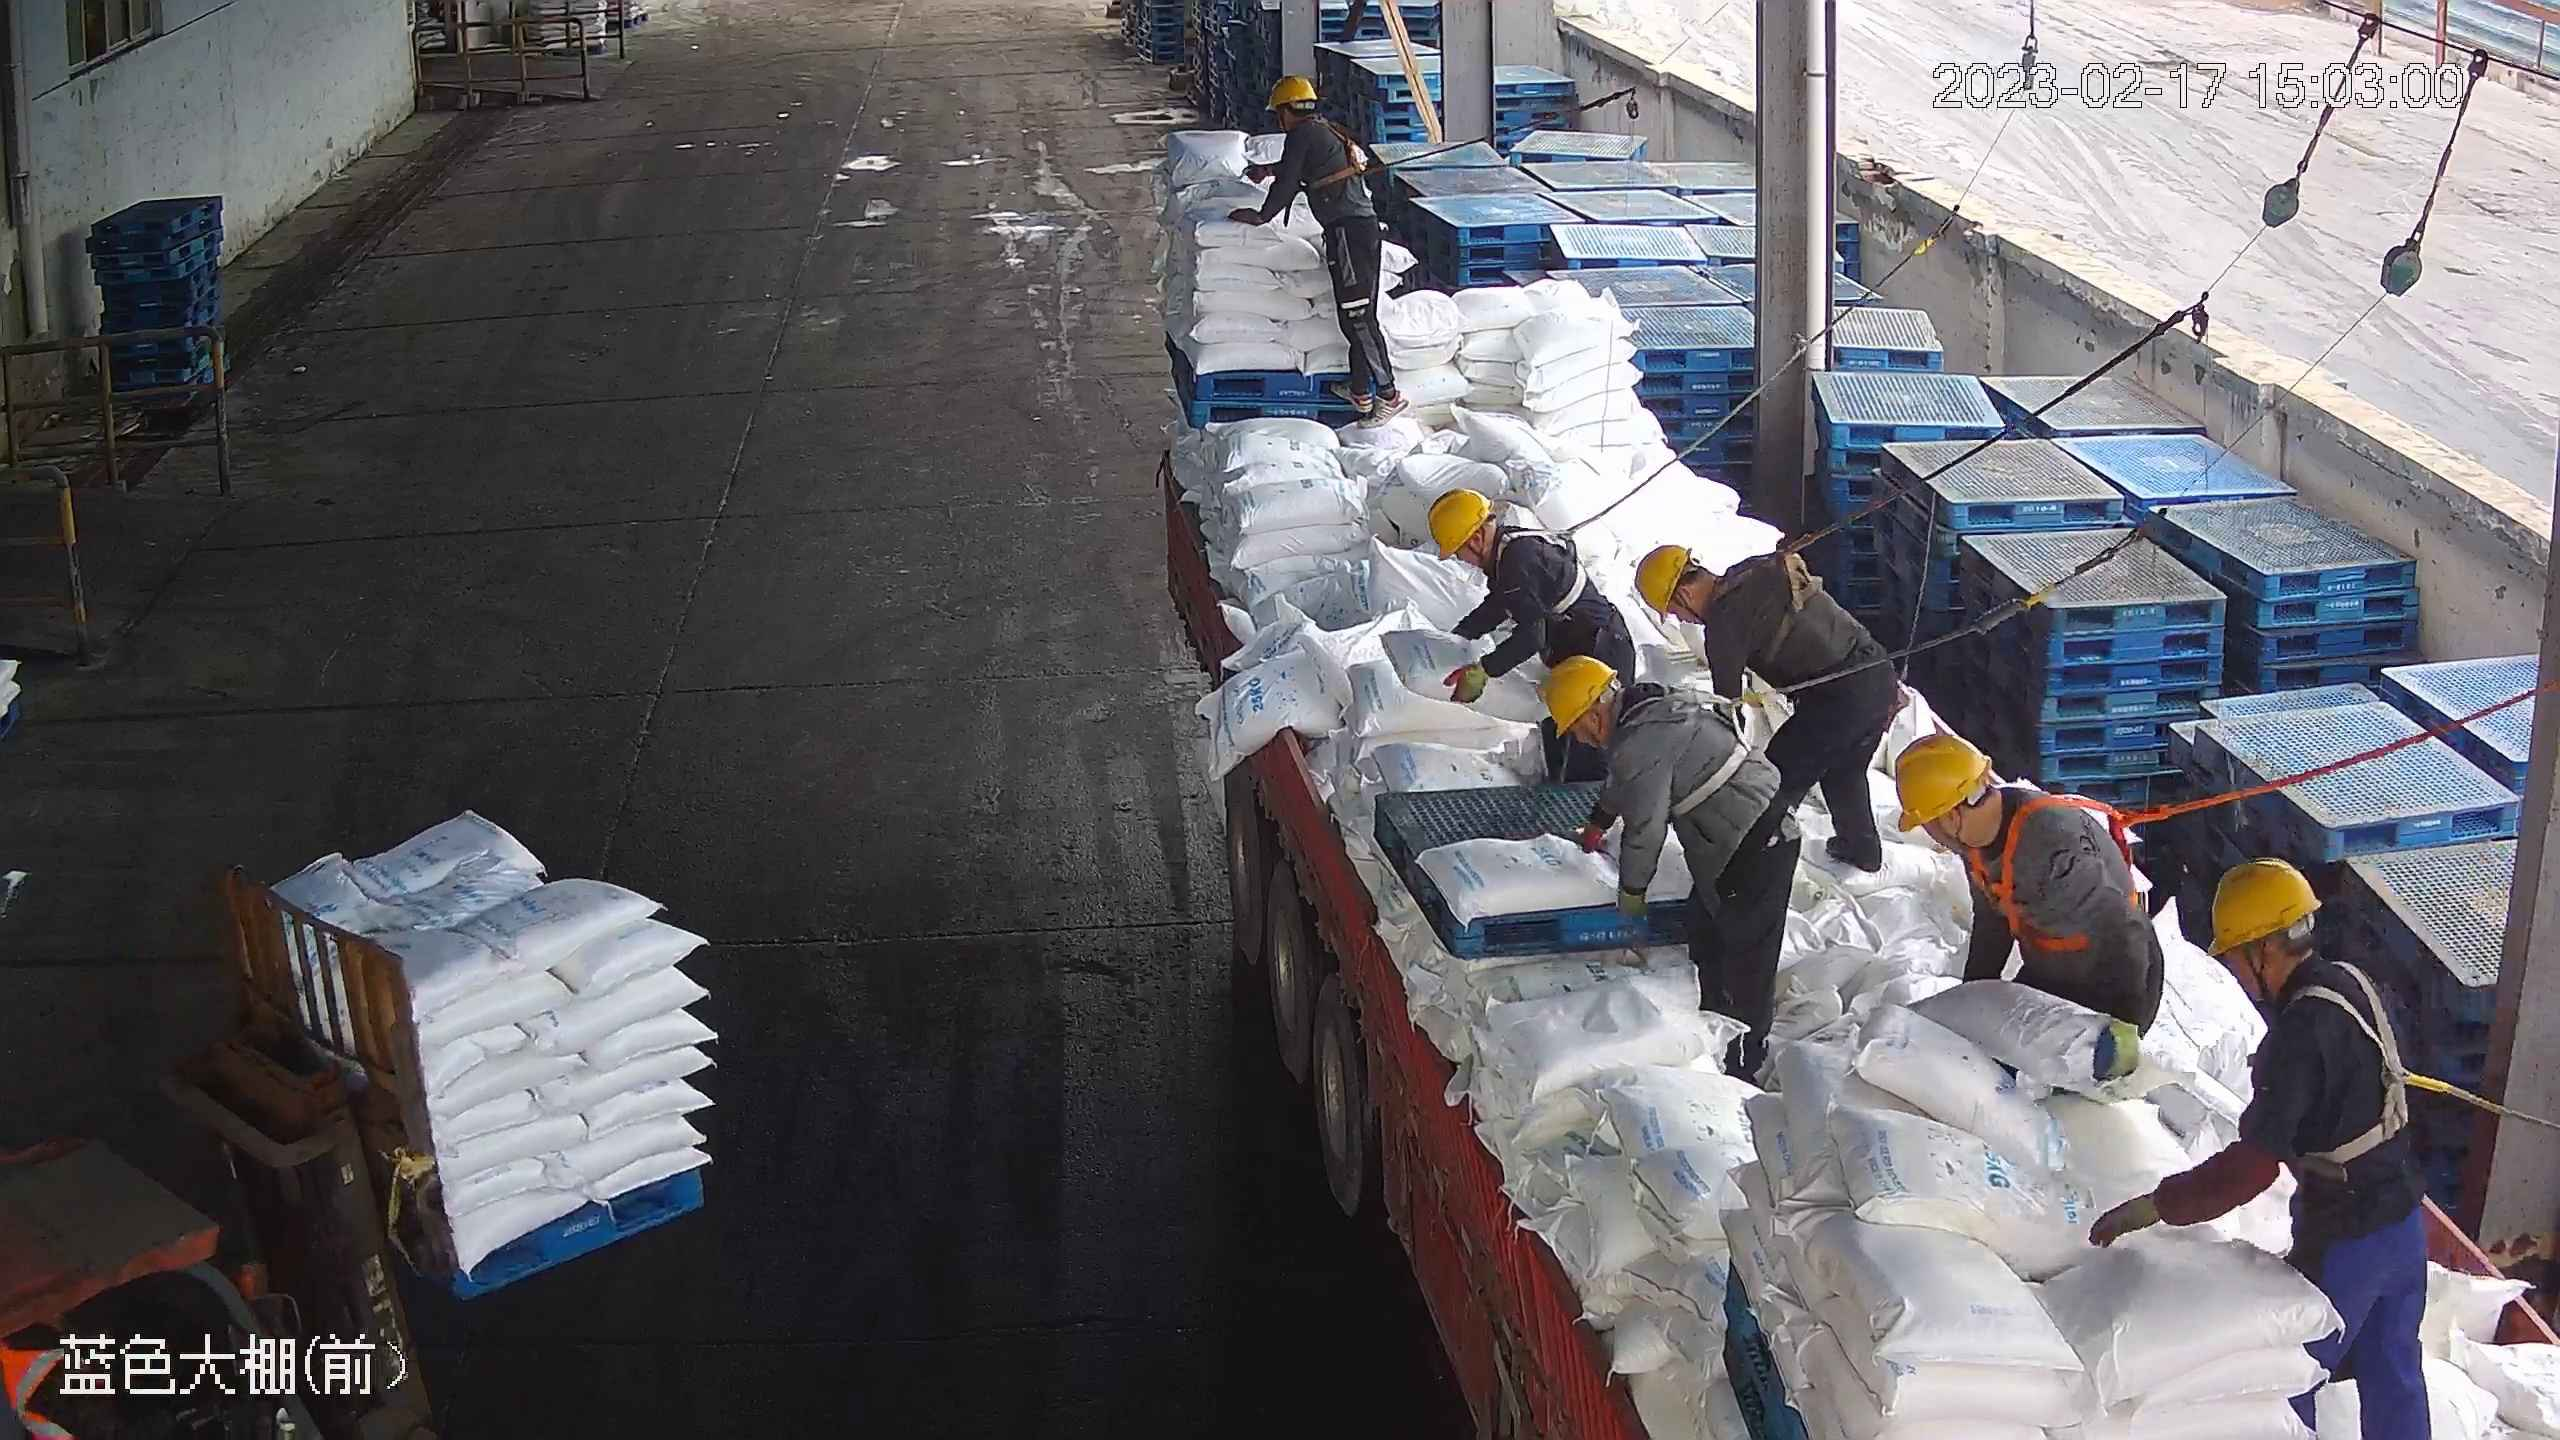belt: (2266, 965, 2461, 1173), (1969, 784, 2166, 963), (1623, 682, 1787, 815), (1728, 535, 1823, 665), (1490, 516, 1594, 616), (1298, 113, 1377, 195)
head: (2204, 854, 2412, 1078), (1891, 731, 2106, 889), (1539, 651, 1723, 780), (1635, 542, 1790, 656), (1425, 486, 1565, 593), (1265, 73, 1357, 150)
helmet: (2204, 854, 2323, 956), (1891, 730, 1994, 830), (1540, 654, 1618, 742), (1635, 542, 1700, 619), (1427, 485, 1493, 559), (1266, 73, 1317, 110)
people: (2082, 852, 2437, 1440), (1539, 651, 1805, 1087), (1889, 730, 2166, 1093), (1635, 542, 1900, 877), (1229, 69, 1408, 422), (1427, 486, 1638, 735)
truck: (1119, 159, 2545, 1440)
